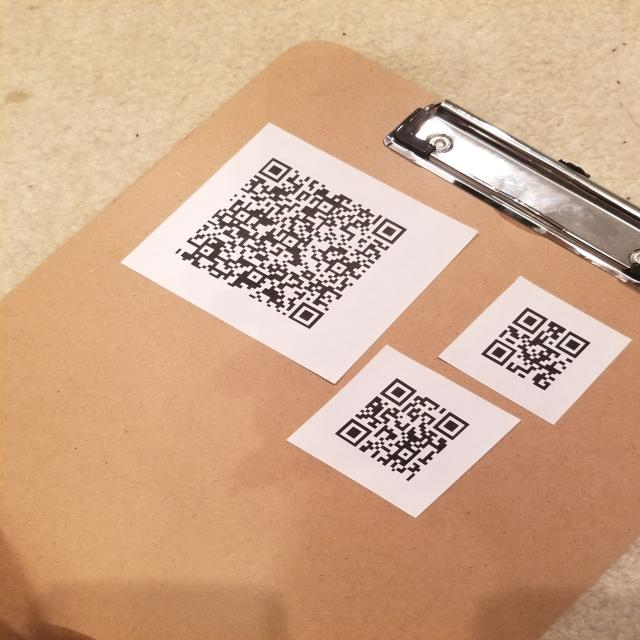QRCode: (163, 150, 420, 339), (326, 374, 488, 488), (470, 302, 604, 395)
